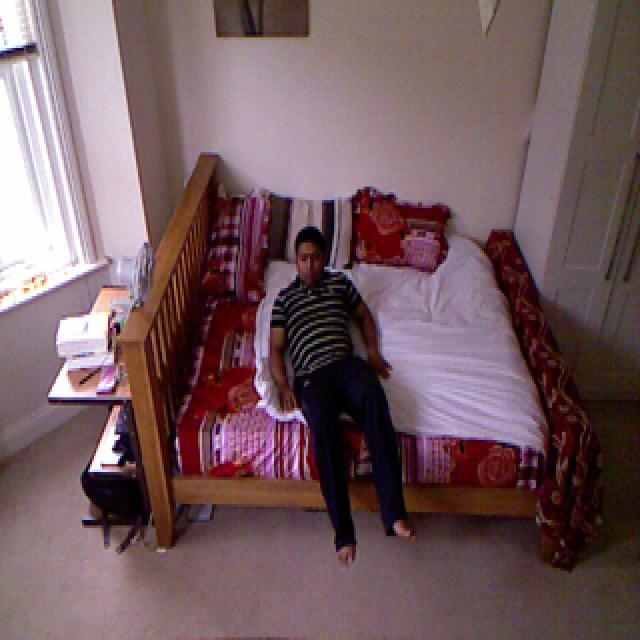lying: (274, 221, 419, 602)
